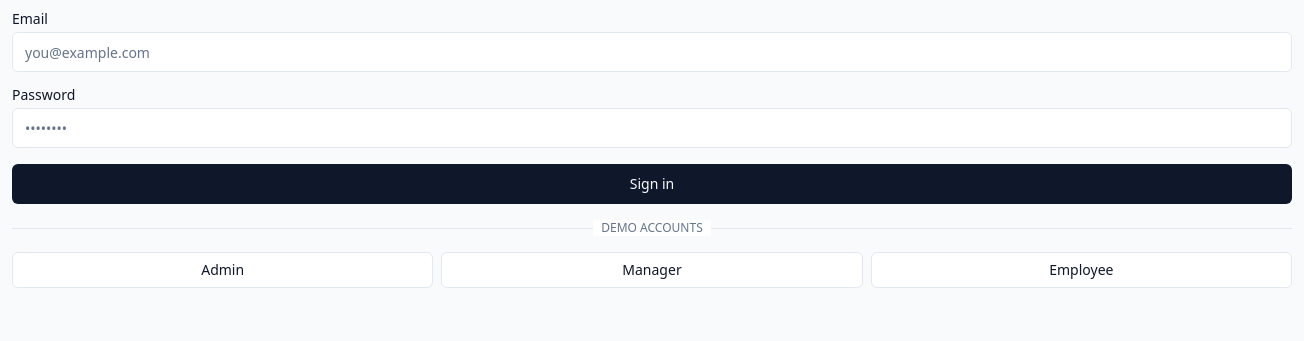
Test: LoginForm › shows an API error message on login failure
Type "wrong@example.com" into the field labelled "Email".
click(652, 52); type("wrong@example.com")  # box [12,32,1292,72]
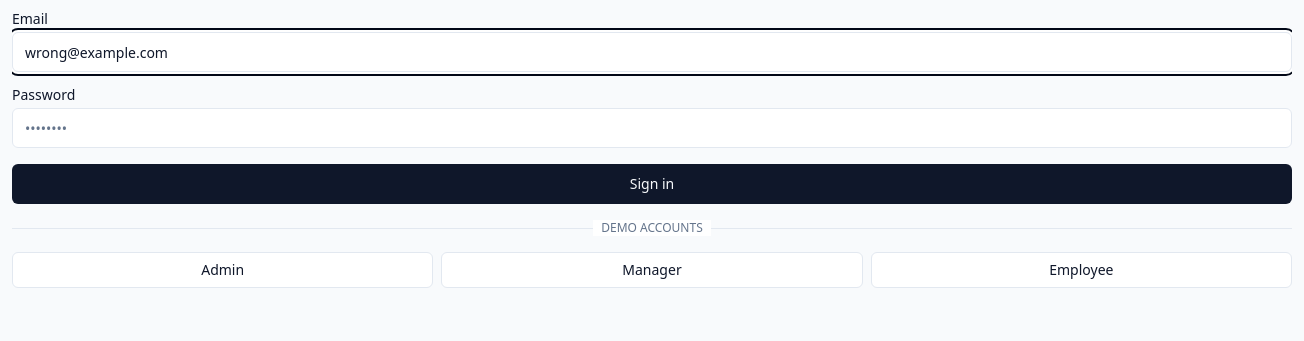
Type "wrongpass" into the password field labelled "Password".
click(652, 128); type("wrongpass")  # box [12,108,1292,148]
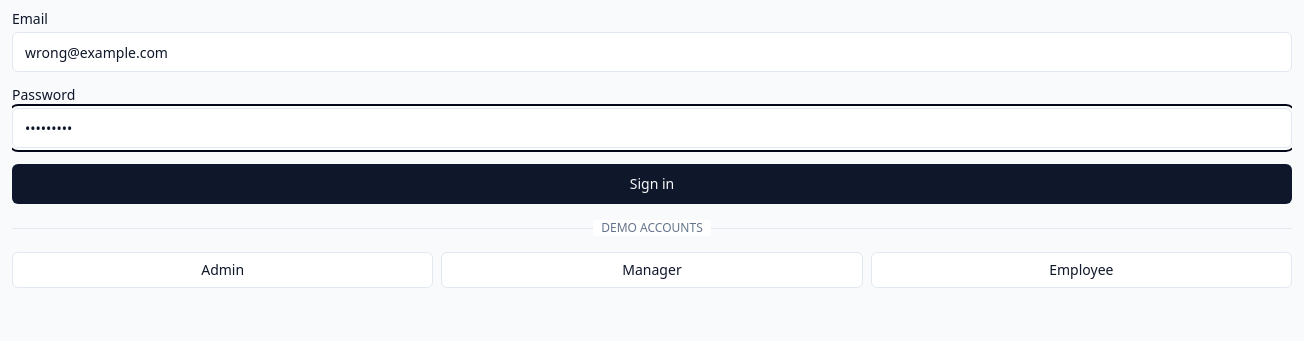
Click the button "Sign in".
click(652, 184)  # box [12,164,1292,204]
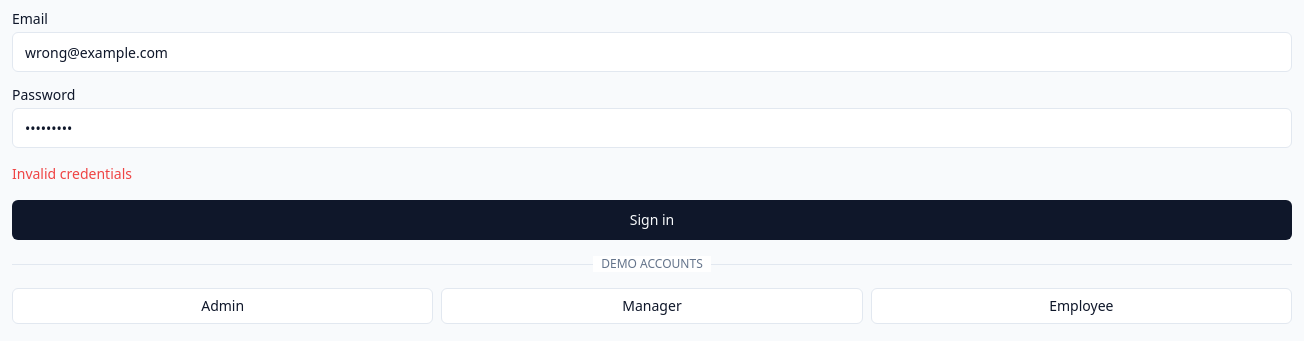
expect the text "Invalid credentials" is shown: met, box [12,164,132,183]
